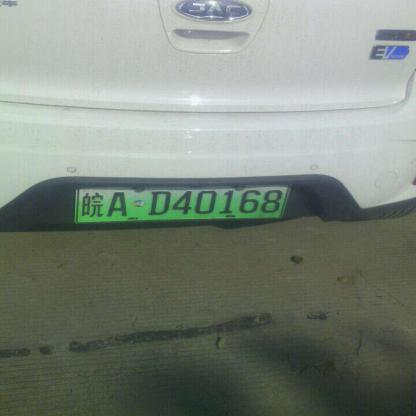lp: (76, 185, 288, 220)
